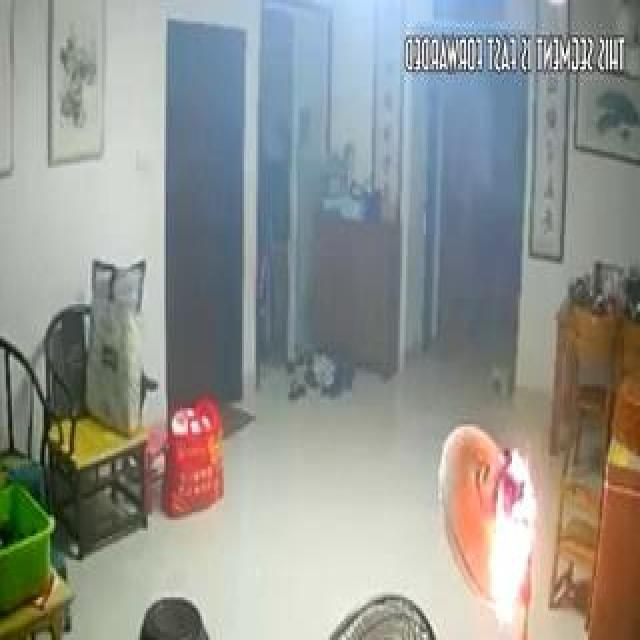Fire: (435, 379, 543, 624)
